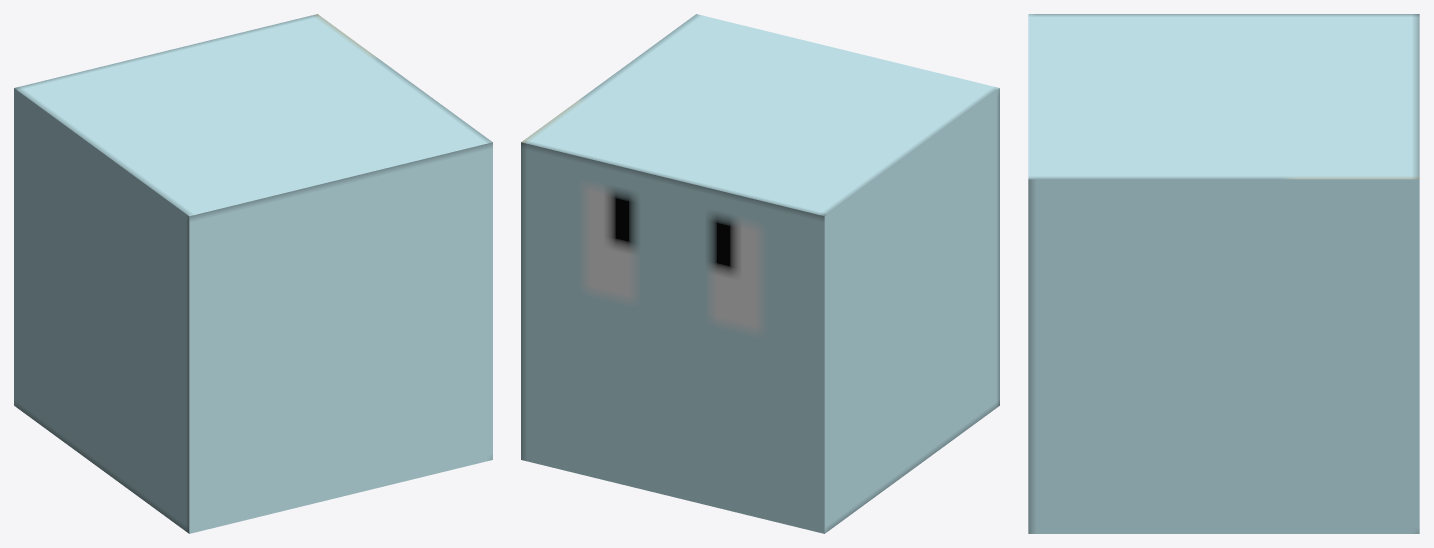
The model's file is planaria_slime_small2.obj.
3 views of the same model, side by side, from view 1: azimuth 30°, elevation 25°; view 2: azimuth 150°, elevation 25°; view 3: azimuth 270°, elevation 25° (orthographic). The views are drawn at different scales.
Parts seen in each view (by area): view 1: cube; view 2: cube; view 3: cube.
Part boxes in pixels (x1=…): cube: x1=14, y1=14, x2=492, y2=533; cube: x1=521, y1=14, x2=999, y2=533; cube: x1=1028, y1=14, x2=1419, y2=533.
Size of the model in its own units: 0.375 by 0.375 by 0.375.
1 material, 1 textured.
